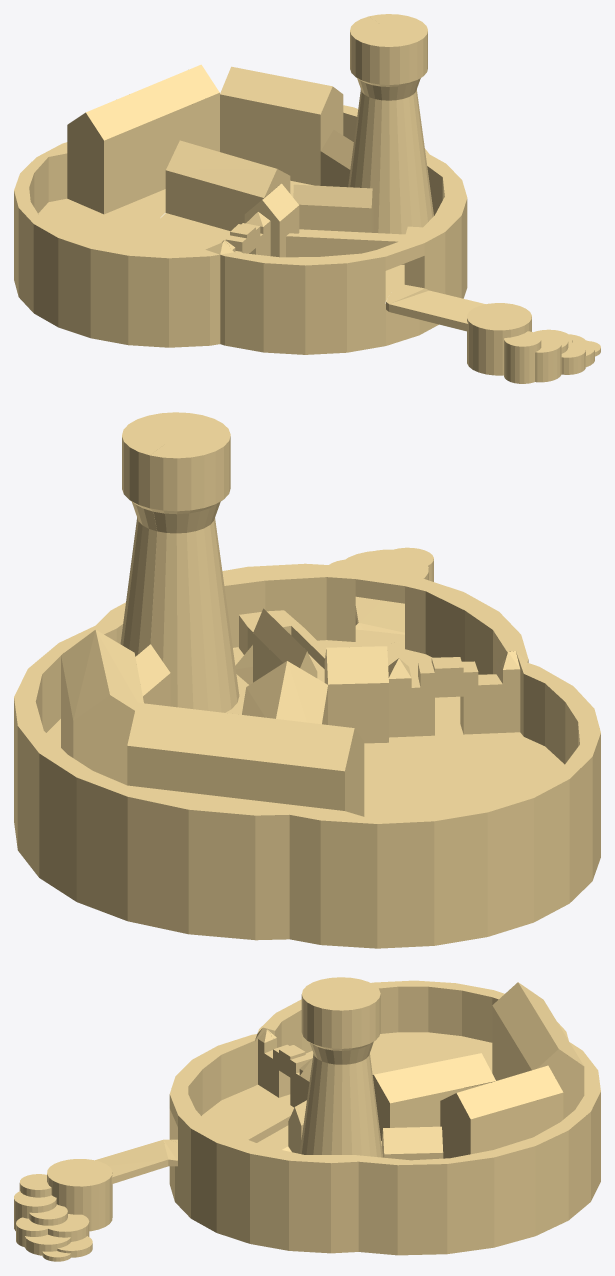
File: SandBurgFinal3.0.fbx
3 views of the same model, one above another, from view 1: azimuth 30°, elevation 25°; view 2: azimuth 150°, elevation 25°; view 3: azimuth 270°, elevation 25° (orthographic). The views are drawn at different scales.
Visible parts, largest first — view 1: Burg; view 2: Burg; view 3: Burg.
Boxes of the visible parts, box(x1,y1,x2,y2) form: Burg: box(14, 14, 600, 383); Burg: box(14, 412, 600, 948); Burg: box(14, 977, 600, 1261).
Bounding box in the file's own units: 1598 × 912 × 2076.
